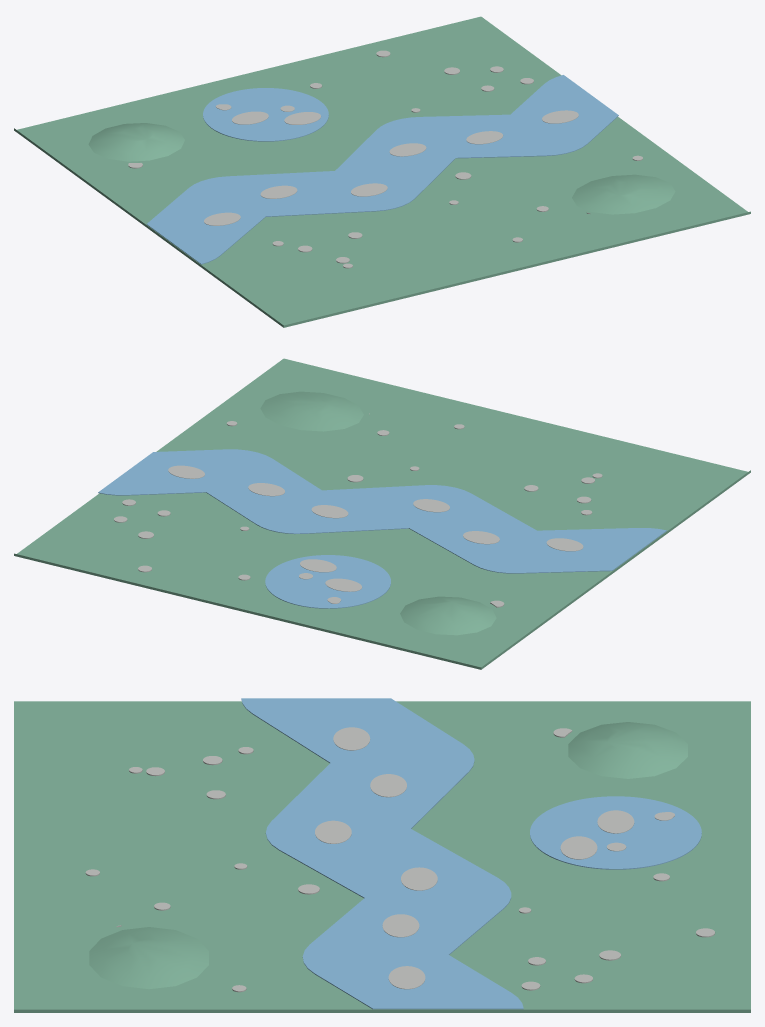
3 renders of one model, top to bottom at view 1: azimuth 30°, elevation 25°; view 2: azimuth 150°, elevation 25°; view 3: azimuth 270°, elevation 25°, orthographic. The views are drawn at different scales.
Parts seen in each view (by area): view 1: Safety_Pad, River_Inlay, Terrain, Stone_Inlay; view 2: Safety_Pad, River_Inlay, Terrain, Stone_Inlay; view 3: Safety_Pad, River_Inlay, Terrain, Stone_Inlay.
Boxes of the visible parts, x1,y1,x2,y2 form: Safety_Pad: (14, 16, 750, 327); River_Inlay: (146, 75, 618, 264); Terrain: (88, 123, 675, 214); Stone_Inlay: (128, 50, 642, 268); Safety_Pad: (14, 358, 750, 669); River_Inlay: (98, 449, 666, 608); Terrain: (260, 391, 496, 635); Stone_Inlay: (114, 413, 602, 607); Safety_Pad: (14, 701, 750, 1012); River_Inlay: (241, 698, 701, 1009); Terrain: (89, 722, 687, 989); Stone_Inlay: (85, 727, 715, 992).
Size of what is drawn, in the model's own units: 6 by 0.12 by 6.
